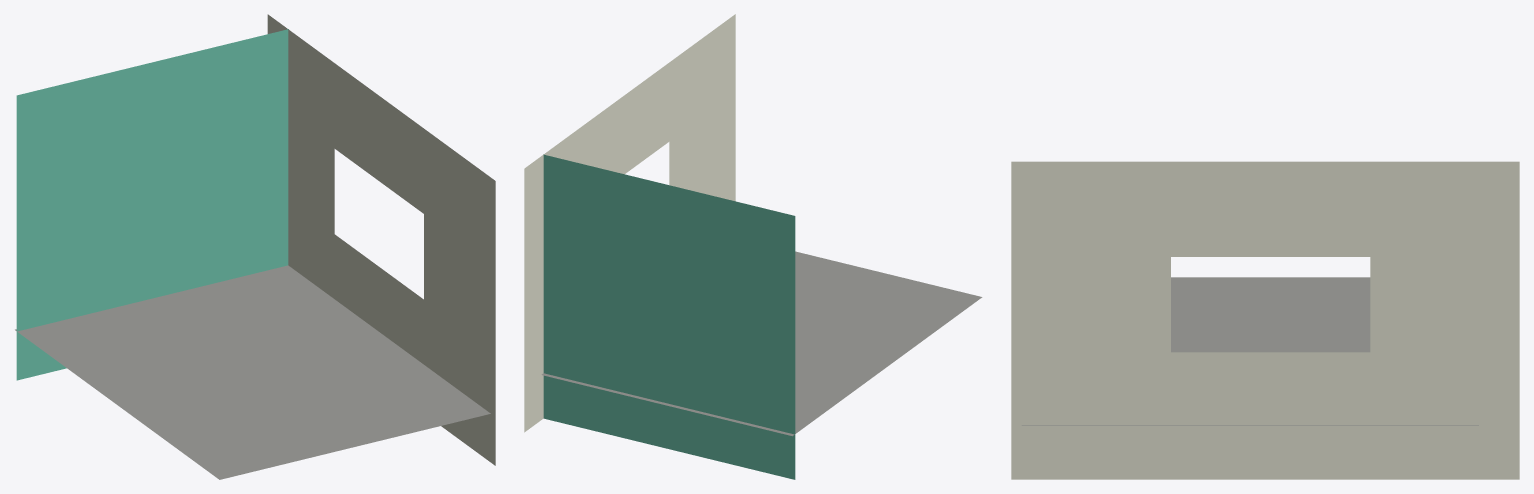
File: room_L.fbx
3 renders of one model, left to right at view 1: azimuth 30°, elevation 25°; view 2: azimuth 150°, elevation 25°; view 3: azimuth 270°, elevation 25°, orthographic. The views are drawn at different scales.
Visible parts, largest first — view 1: room_L_geo; view 2: room_L_geo; view 3: room_L_geo.
Part boxes in pixels (box(x1,y1,x2,y2)): room_L_geo: box(15, 14, 495, 479); room_L_geo: box(524, 14, 982, 479); room_L_geo: box(1011, 161, 1519, 479).
Size of the model in its own units: 622 by 621 by 901.
